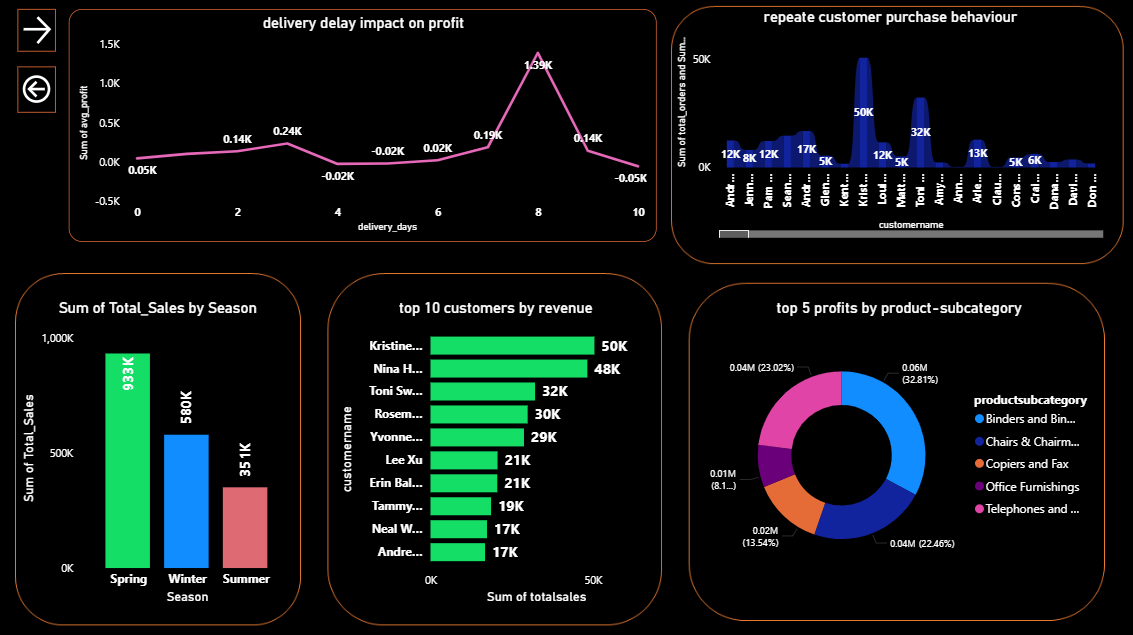

The dashboard page shown, as its layout file describes it:
{"tool":"powerbi","page":{"name":"customer and product insights","canvas":[1280,720],"ordinal":1},"visuals":[{"type":"ribbonChart","title":"repeate customer purchase behaviour","fields":{"Category":["repeat customers.customername"],"Y":["Sum(repeat customers.total_orders)","Sum(repeat customers.total_sales)"]},"box":[757.4,10.1,490.5,264],"z":0},{"type":"barChart","title":"top 10 customers by revenue","fields":{"Category":["Query4.customername"],"Y":["Sum(Query4.totalsales)"]},"box":[378,337.6,362.1,349.1],"z":1000},{"type":"donutChart","title":"top 5 profits by product-subcategory","fields":{"Category":["top5 profitable subcategory.productsubcategory"],"Y":["Sum(top5 profitable subcategory.total_profit)"]},"box":[795,337.6,437.2,333.3],"z":2000},{"type":"lineChart","title":"delivery delay impact on profit","fields":{"Y":["Sum(delivery delay impact.avg_profit)"],"Category":["delivery delay impact.delivery_days"]},"box":[77.9,11.5,662.2,262.6],"z":3000},{"type":"clusteredColumnChart","fields":{"Category":["season analysis.Season"],"Y":["Sum(season analysis.Total_Sales)"]},"box":[20.2,337.6,316,349.1],"z":4000},{"type":"actionButton","box":[20.2,76.5,43.3,51.9],"z":5000},{"type":"actionButton","box":[20.2,11.5,43.3,47.6],"z":6000}]}

Visuals, with their boxes in screenshot pixels (x1, y1, x2, y2), scaled from the page's 1280x720 canvas onto the 1133x635 screenshot:
"repeate customer purchase behaviour" ribbonChart: pyautogui.locateOnScreen(670, 9, 1105, 242)
"top 10 customers by revenue" barChart: pyautogui.locateOnScreen(335, 298, 655, 606)
"top 5 profits by product-subcategory" donutChart: pyautogui.locateOnScreen(704, 298, 1091, 592)
"delivery delay impact on profit" lineChart: pyautogui.locateOnScreen(69, 10, 655, 242)
clusteredColumnChart - season analysis.Season x Sum(season analysis.Total_Sales): pyautogui.locateOnScreen(18, 298, 298, 606)
actionButton: pyautogui.locateOnScreen(18, 67, 56, 113)
actionButton: pyautogui.locateOnScreen(18, 10, 56, 52)
